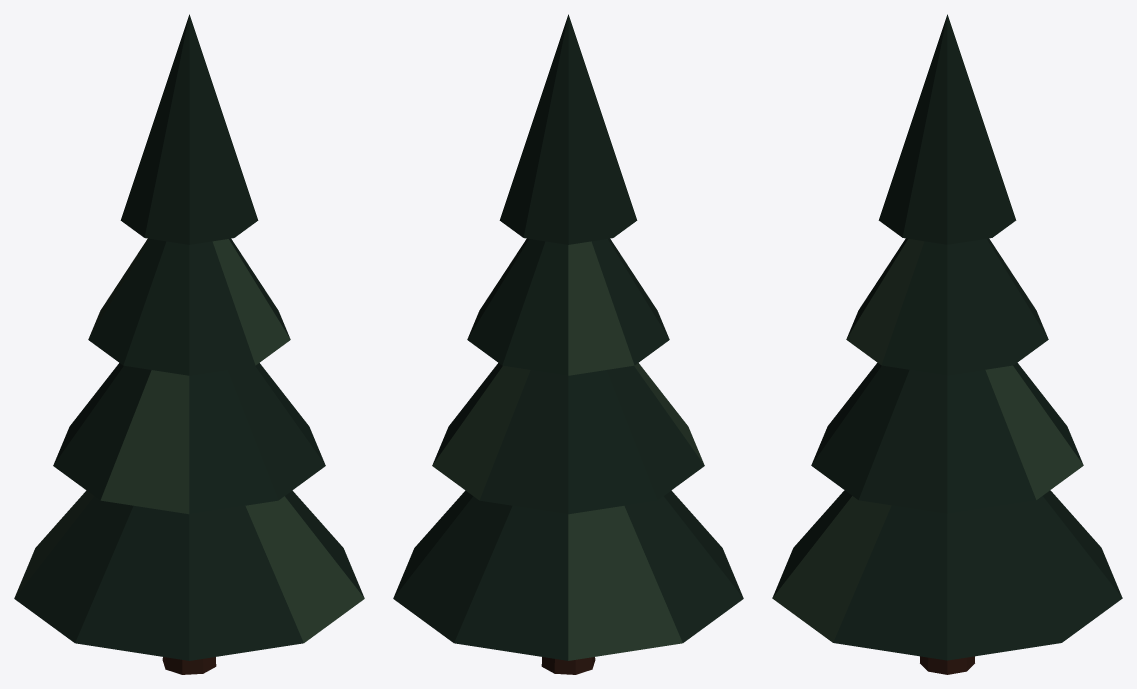
The model's file is Tree_Pine_04.fbx.
3 views of the same model, side by side, from view 1: azimuth 30°, elevation 25°; view 2: azimuth 150°, elevation 25°; view 3: azimuth 270°, elevation 25° (orthographic).
Parts seen in each view (by area): view 1: Tree_Pine_04_Foliage, Tree_Pine_04_Trunk; view 2: Tree_Pine_04_Foliage, Tree_Pine_04_Trunk; view 3: Tree_Pine_04_Foliage, Tree_Pine_04_Trunk.
Boxes of the visible parts, x1,y1,x2,y2 form: Tree_Pine_04_Foliage: (14,14,364,660); Tree_Pine_04_Trunk: (162,657,216,674); Tree_Pine_04_Foliage: (393,14,743,660); Tree_Pine_04_Trunk: (541,657,595,674); Tree_Pine_04_Foliage: (772,14,1122,660); Tree_Pine_04_Trunk: (920,656,974,674).
Bounding box in the file's own units: 2.41 × 5 × 2.45.
1 material, 1 textured.
